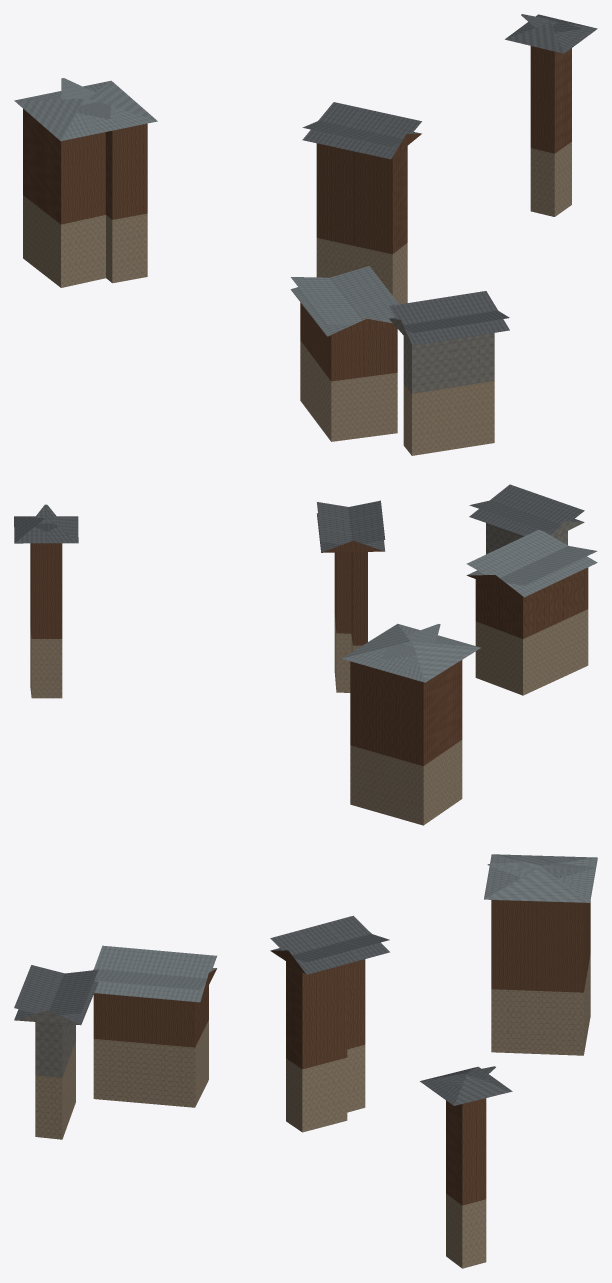
The model's file is bld_c-2_-1_542.gltf.
3 renders of one model, top to bottom at view 1: azimuth 30°, elevation 25°; view 2: azimuth 150°, elevation 25°; view 3: azimuth 270°, elevation 25°, orthographic. The views are drawn at different scales.
Parts seen in each view (by area): view 1: bld_c-2_-1_542; view 2: bld_c-2_-1_542; view 3: bld_c-2_-1_542.
Part boxes in pixels (<box>): bld_c-2_-1_542: <box>14,14,597,455</box>; bld_c-2_-1_542: <box>14,484,597,825</box>; bld_c-2_-1_542: <box>14,854,597,1268</box>.
Bounding box in the file's own units: 43.65 × 16.6 × 42.78.
7 materials, 7 textured.
